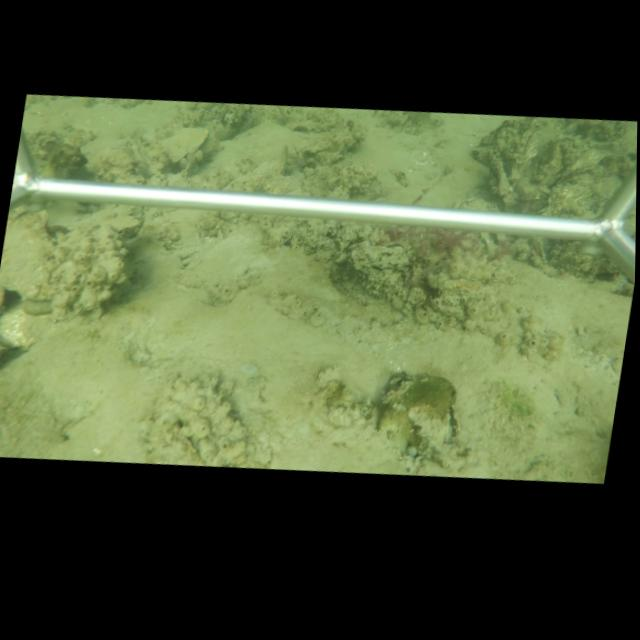Oyster-Closed: (340, 237, 416, 277)
Oyster-Indeterminate: (3, 206, 56, 302), (160, 126, 211, 163)
